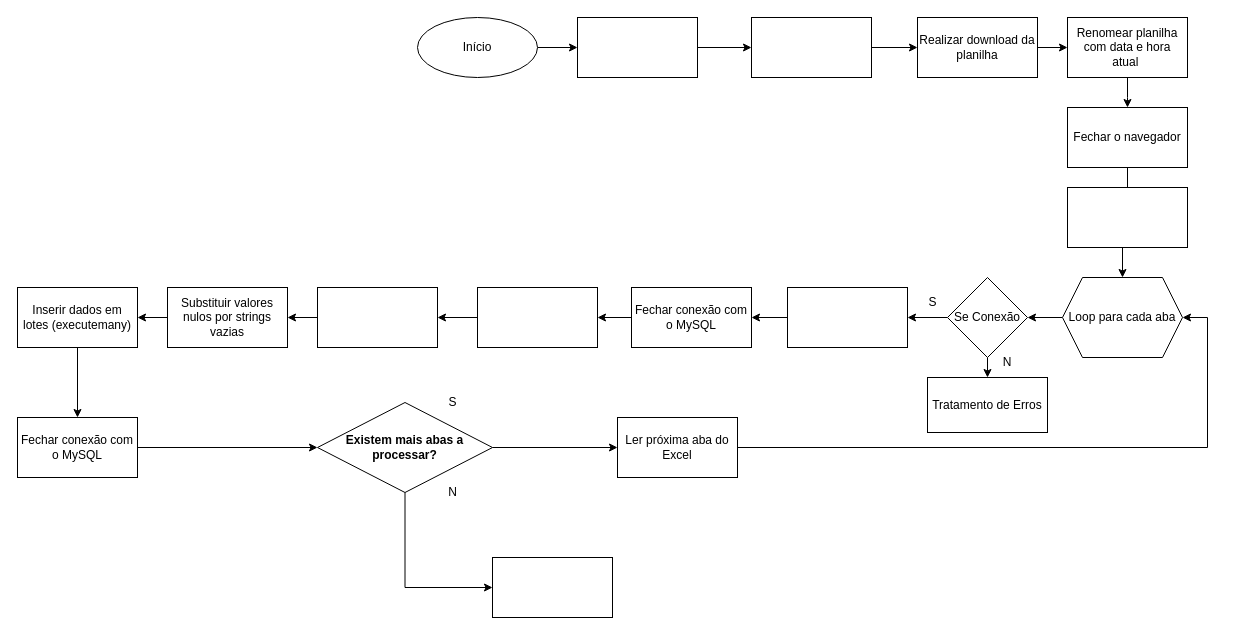
This 1233x635 diagram has some shape labels left out. Each missing label, with the centre of its shape:
"Acessar página da EPA" belongs at point 811,47.
"Configurar navegador Chrome" belongs at point 637,47.
"Criar tabela no MySQL com colunas baseadas no DataFrame" belongs at point 847,317.
"Fim Automação" belongs at point 552,587.
"Ler arquivo Excel e iterar sobre todas as abas" belongs at point 1127,217.
"Preparar query de inserção com base nas colunas do DataFrame" belongs at point 377,317.
"Tenta reabrir conexão com o MySQL (para inserção de dados)" belongs at point 537,317.
